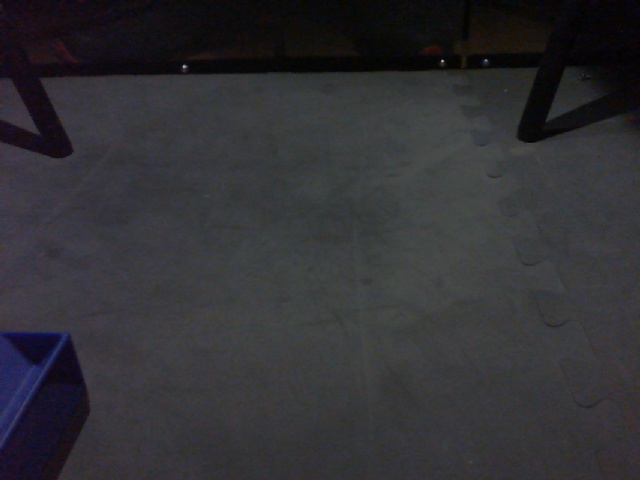BlueSample: (1, 325, 84, 479)
